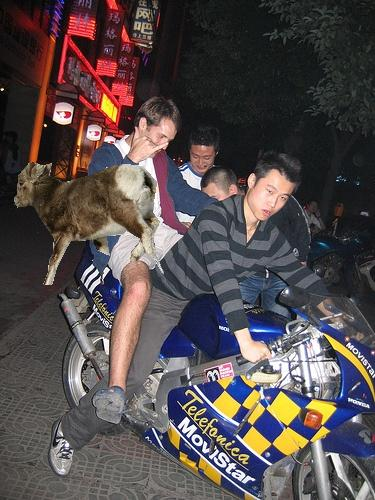tampered: (15, 164, 164, 285)
